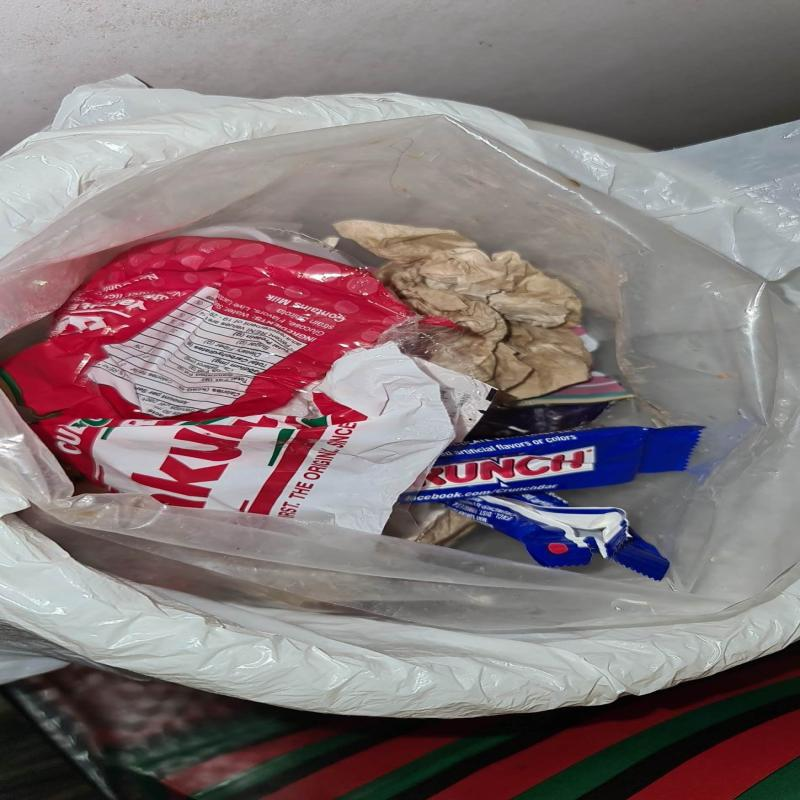food wrapper: (0, 237, 496, 535), (413, 425, 707, 503), (443, 493, 670, 582)
paper: (332, 220, 592, 400)
